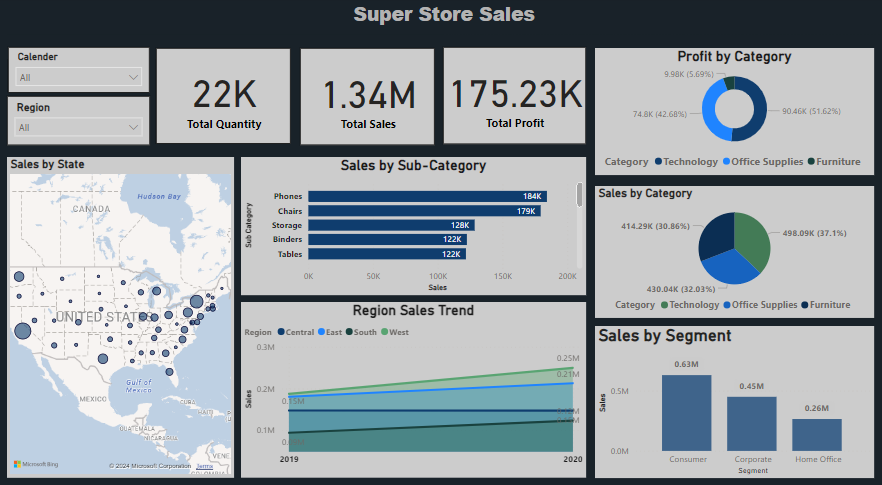

The dashboard page shown, as its layout file describes it:
{"tool":"powerbi","page":{"name":"Super Store Sales","canvas":[1280,720],"ordinal":0},"visuals":[{"type":"textbox","box":[11.7,0,1258.5,54.1],"z":0},{"type":"card","fields":{"Values":["Sum(Table1.Profit)"]},"box":[639.4,72,205.9,139.7],"z":1000},{"type":"card","fields":{"Values":["Sum(Table1.Sales)"]},"box":[433.4,73.4,194.4,139.7],"z":2000},{"type":"card","fields":{"Values":["Sum(Table1.Quantity)"]},"box":[226.1,73.4,194.4,138.2],"z":3000},{"type":"slicer","fields":{"Values":["Table1.Region"]},"box":[11.5,142.6,205.9,70.6],"z":4000},{"type":"slicer","fields":{"Values":["Table1.Order Date.Variation.Date Hierarchy.Year"]},"box":[13,72,204.5,66.2],"z":5000},{"type":"map","title":"Sales by State","fields":{"Category":["Table1.State"],"Size":["Sum(Table1.Sales)"]},"box":[11.5,230.4,326.9,462.2],"z":6000},{"type":"donutChart","title":"Profit by Category","fields":{"Category":["Table1.Category"],"Y":["Sum(Table1.Profit)"]},"box":[858.2,73.4,401.8,182.9],"z":7000},{"type":"barChart","title":"Sales by Sub-Category ","fields":{"Category":["Table1.Sub-Category"],"Y":["Sum(Table1.Sales)"]},"box":[348.5,230.4,496.8,198.7],"z":8000},{"type":"columnChart","title":"Sales by Segment","fields":{"Category":["Table1.Segment"],"Y":["Sum(Table1.Sales)"]},"box":[858.2,473.8,401.8,218.9],"z":9000},{"type":"areaChart","title":"Region Sales Trend","fields":{"Category":["Table1.Order Date.Variation.Date Hierarchy.Year","Table1.Order Date.Variation.Date Hierarchy.Quarter","Table1.Order Date.Variation.Date Hierarchy.Month","Table1.Order Date.Variation.Date Hierarchy.Day"],"Y":["Sum(Table1.Sales)"],"Series":["Table1.Region"]},"box":[348.5,439.2,496.8,253.4],"z":10000},{"type":"pieChart","title":"Sales by Category","fields":{"Category":["Table1.Category"],"Y":["Sum(Table1.Sales)"]},"box":[858.2,272.2,401.8,190.1],"z":12000}]}

Visuals, with their boxes in screenshot pixels (x1, y1, x2, y2), scaled from the page's 1280x720 canvas onto the 882x485 screenshot:
textbox: [left=8, top=0, right=875, bottom=36]
card - Sum(Table1.Profit): [left=441, top=48, right=582, bottom=143]
card - Sum(Table1.Sales): [left=299, top=49, right=433, bottom=144]
card - Sum(Table1.Quantity): [left=156, top=49, right=290, bottom=143]
slicer - Table1.Region: [left=8, top=96, right=150, bottom=144]
slicer - Table1.Order Date.Variation.Date Hierarchy.Year: [left=9, top=48, right=150, bottom=93]
"Sales by State" map: [left=8, top=155, right=233, bottom=467]
"Profit by Category" donutChart: [left=591, top=49, right=868, bottom=173]
"Sales by Sub-Category " barChart: [left=240, top=155, right=582, bottom=289]
"Sales by Segment" columnChart: [left=591, top=319, right=868, bottom=467]
"Region Sales Trend" areaChart: [left=240, top=296, right=582, bottom=467]
"Sales by Category" pieChart: [left=591, top=183, right=868, bottom=311]
